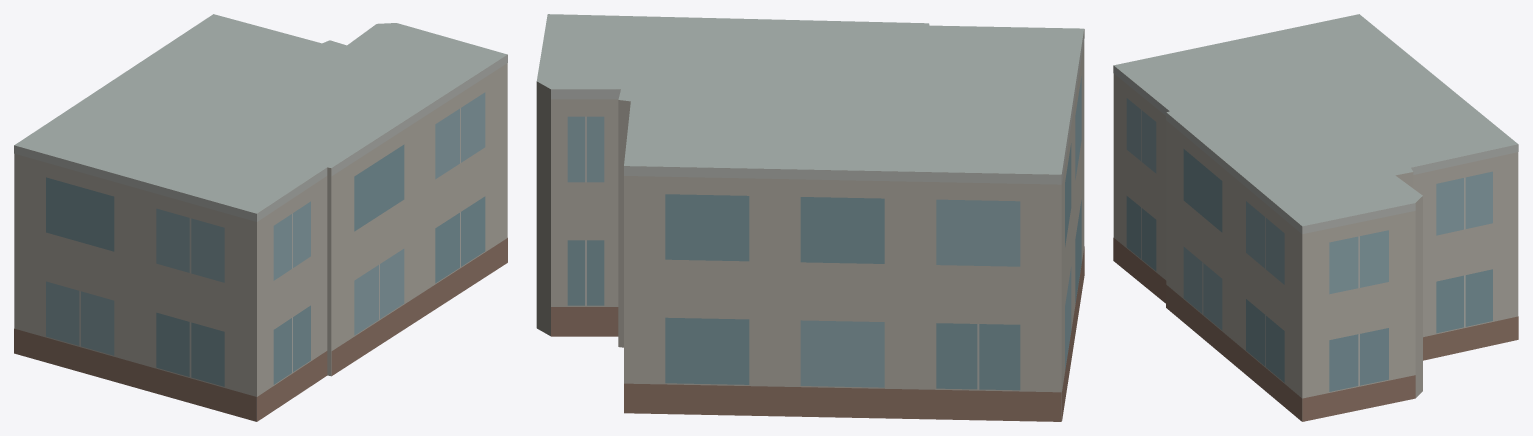
File: survey-upis-32977158.glb
3 renders of one model, left to right at view 1: azimuth 30°, elevation 25°; view 2: azimuth 150°, elevation 25°; view 3: azimuth 270°, elevation 25°, orthographic. The views are drawn at different scales.
Visible parts, largest first — view 1: survey-upis-32977158.tmp; view 2: survey-upis-32977158.tmp; view 3: survey-upis-32977158.tmp.
Boxes of the visible parts, x1=… form: survey-upis-32977158.tmp: x1=14, y1=14, x2=507, y2=421; survey-upis-32977158.tmp: x1=536, y1=14, x2=1084, y2=421; survey-upis-32977158.tmp: x1=1113, y1=14, x2=1518, y2=421.
Bounding box in the file's own units: 14.22 × 6.1 × 11.46.
